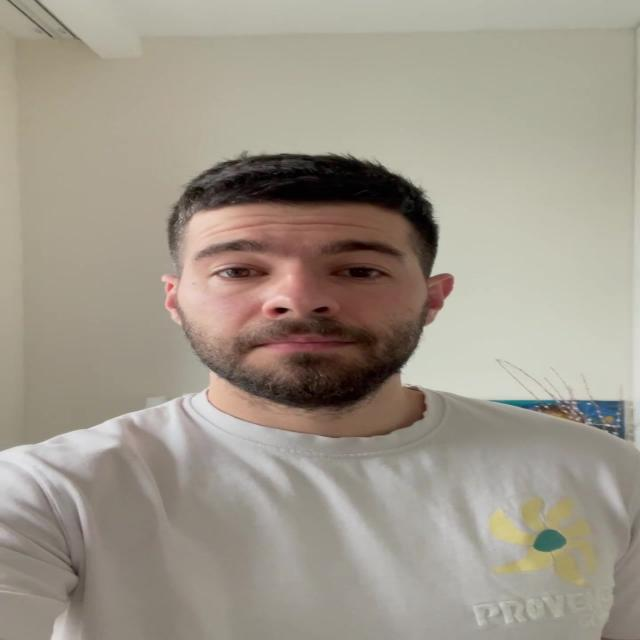earlobe: (165, 307, 183, 326), (423, 306, 440, 326)
eye: (209, 268, 268, 280), (334, 267, 389, 279)
nose: (264, 310, 339, 334)
wholeear: (424, 273, 454, 326), (160, 274, 183, 326)
